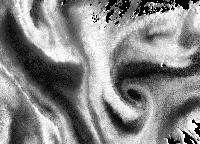CE: (119, 83, 155, 113)
